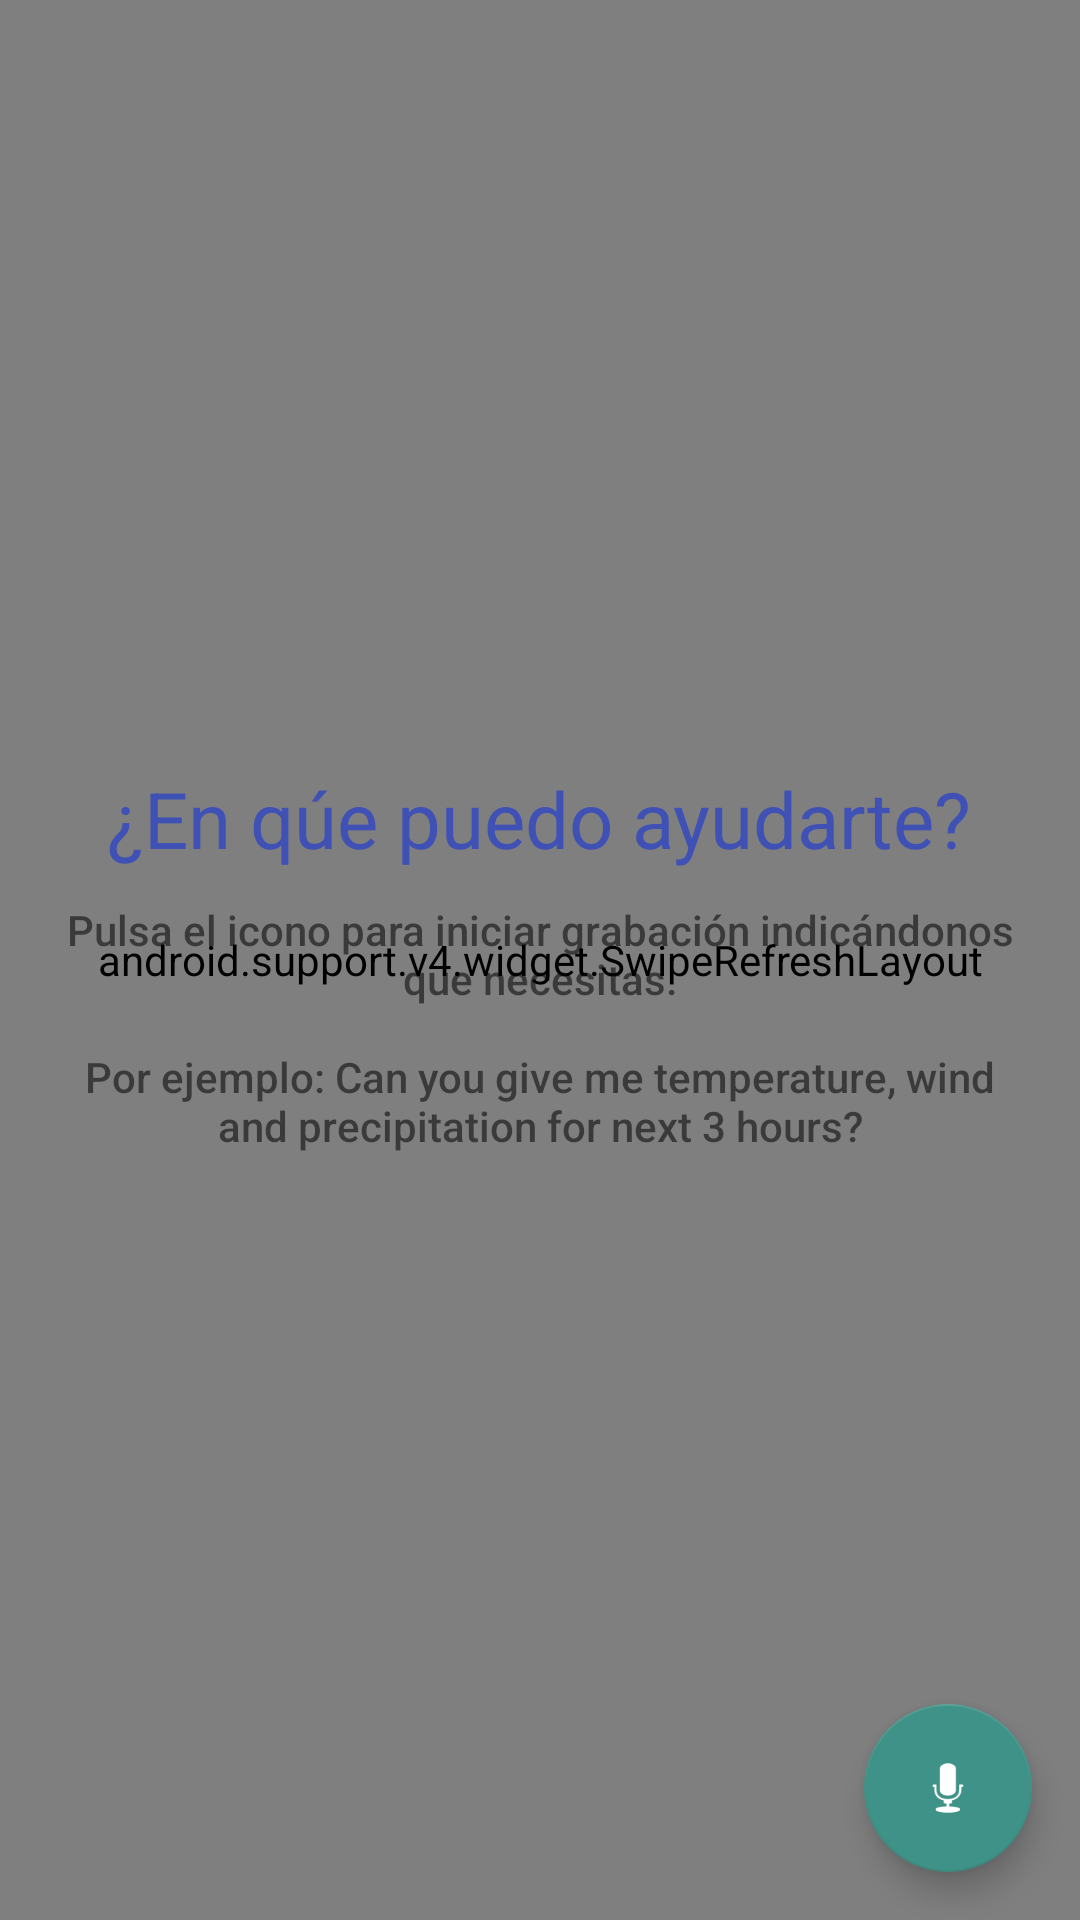

Where to tap for icons on this 1080 × 1920 app screen, as (x=x, y=y):
speak now: (x=948, y=1788)
